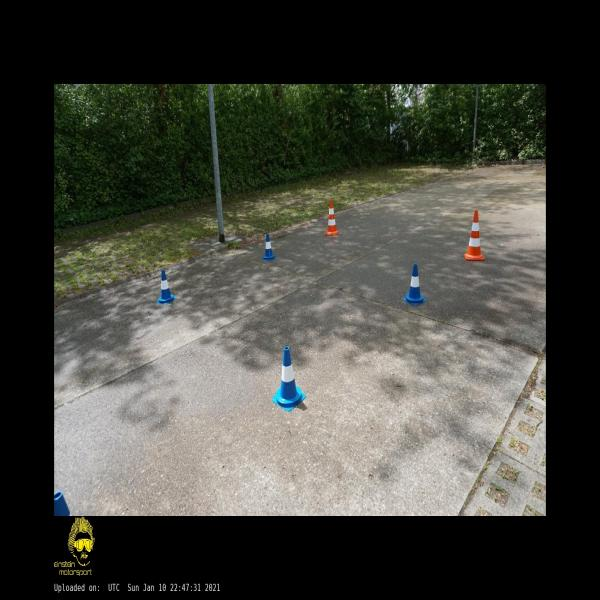blue_cone: (272, 346, 306, 412), (402, 263, 426, 306), (156, 270, 176, 304), (262, 234, 276, 262)
large_orange_cone: (463, 210, 485, 260), (325, 200, 339, 236)
